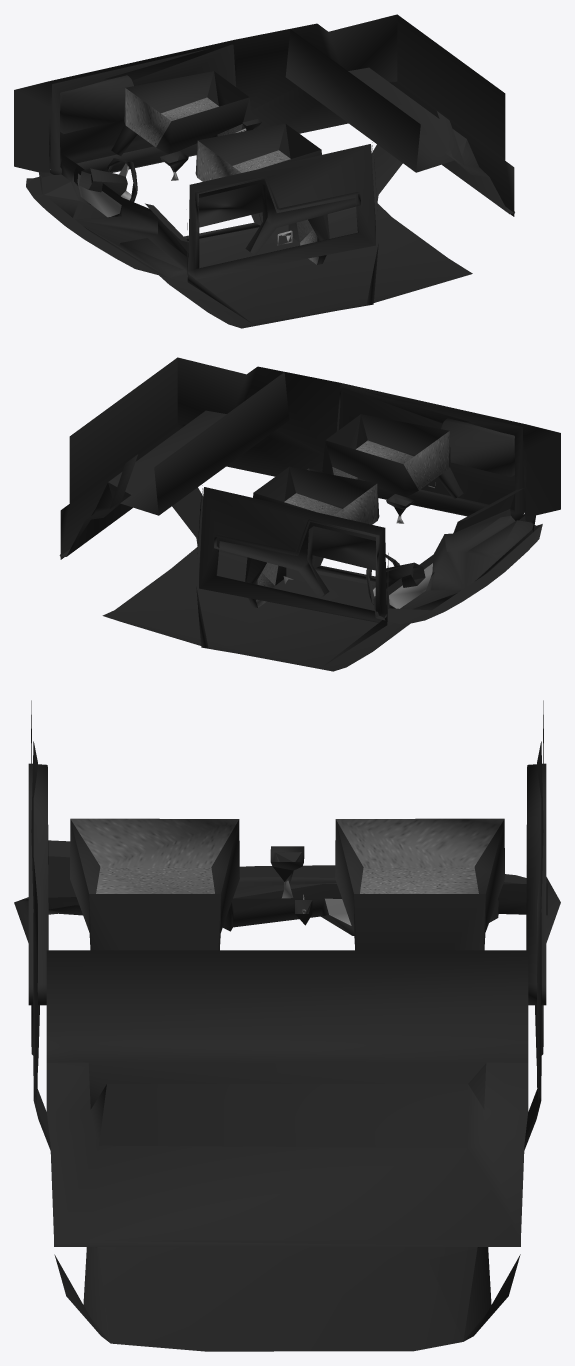
The model's file is M3_interior_d3.obj.
3 views of the same model, one above another, from view 1: azimuth 30°, elevation 25°; view 2: azimuth 150°, elevation 25°; view 3: azimuth 270°, elevation 25° (orthographic). The views are drawn at different scales.
Visible parts, largest first — view 1: M3_interior_M3_interior_DefaultMaterial; view 2: M3_interior_M3_interior_DefaultMaterial; view 3: M3_interior_M3_interior_DefaultMaterial.
Boxes of the visible parts, x1,y1,x2,y2 form: M3_interior_M3_interior_DefaultMaterial: (14, 14, 514, 328); M3_interior_M3_interior_DefaultMaterial: (59, 357, 560, 671); M3_interior_M3_interior_DefaultMaterial: (14, 700, 560, 1351).
Size of the model in its own units: 2.59 by 1.07 by 1.51.
Materials: 1 (1 with a texture image).
